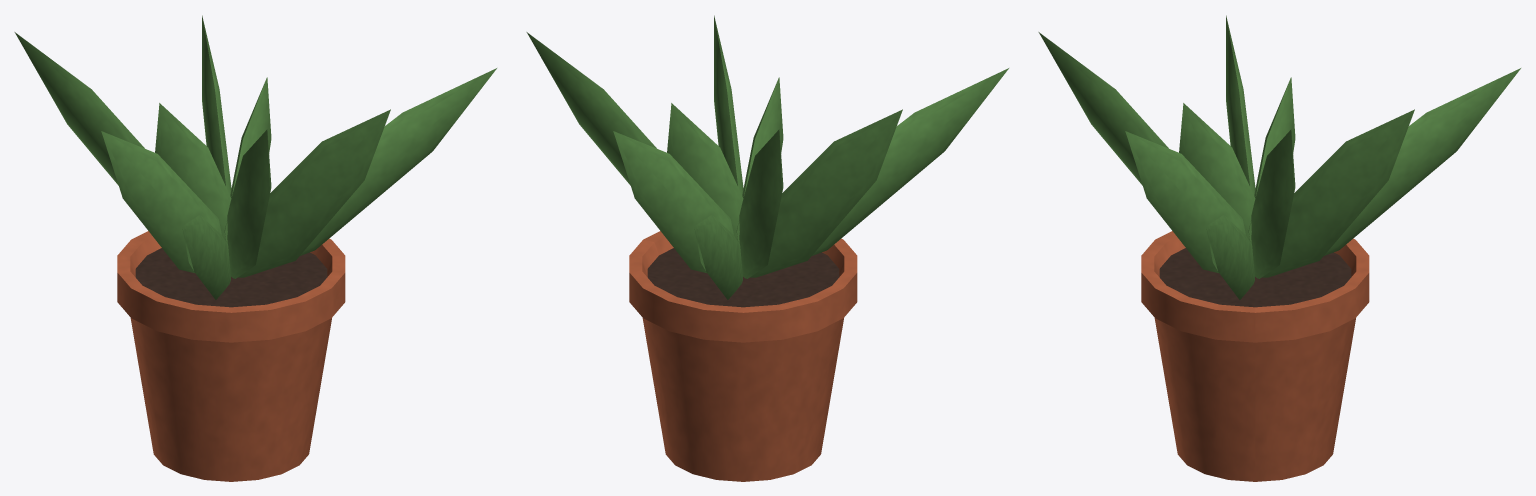
Rendered from SM_Plant_Potted.fbx.
3 renders of one model, left to right at view 1: azimuth 30°, elevation 25°; view 2: azimuth 150°, elevation 25°; view 3: azimuth 270°, elevation 25°, orthographic.
Visible parts, largest first — view 1: SM_Plant_Potted; view 2: SM_Plant_Potted; view 3: SM_Plant_Potted.
Part boxes in pixels (box(x1,y1,x2,y2)): SM_Plant_Potted: box(14, 15, 496, 481); SM_Plant_Potted: box(526, 15, 1008, 481); SM_Plant_Potted: box(1038, 15, 1520, 481).
Bounding box in the file's own units: 0.3508 × 0.3055 × 0.3677.
3 materials, 3 textured.
